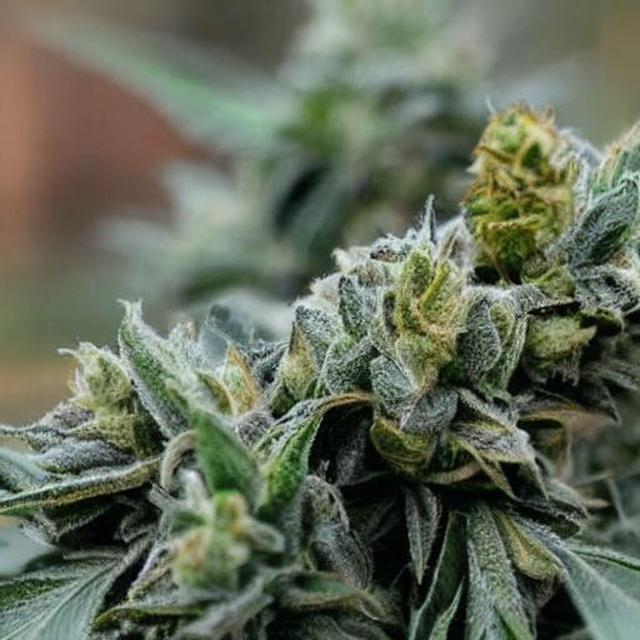Marijuana Plant: (217, 35, 476, 587)
